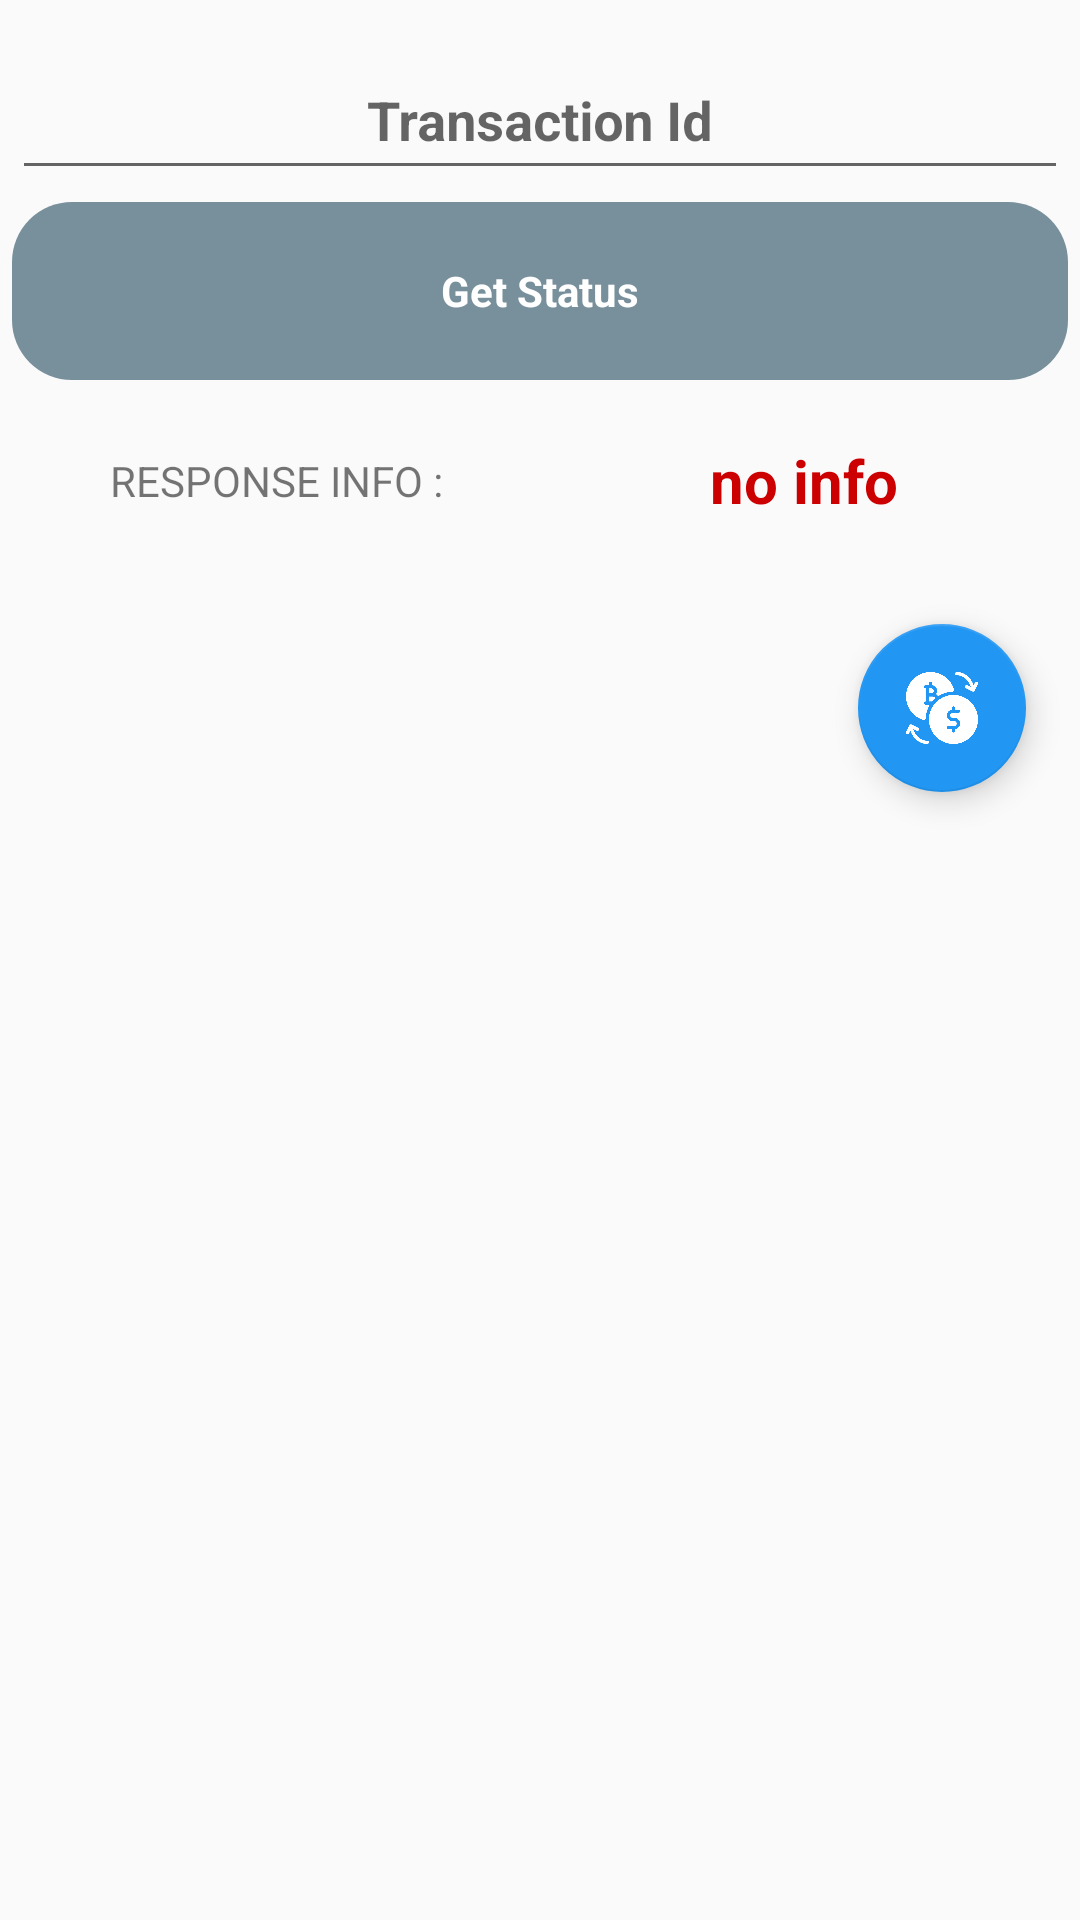

Screen size 1080 × 1920. Icon name, then its center in pixels as point (x, y):
exchange: point (942, 708)
